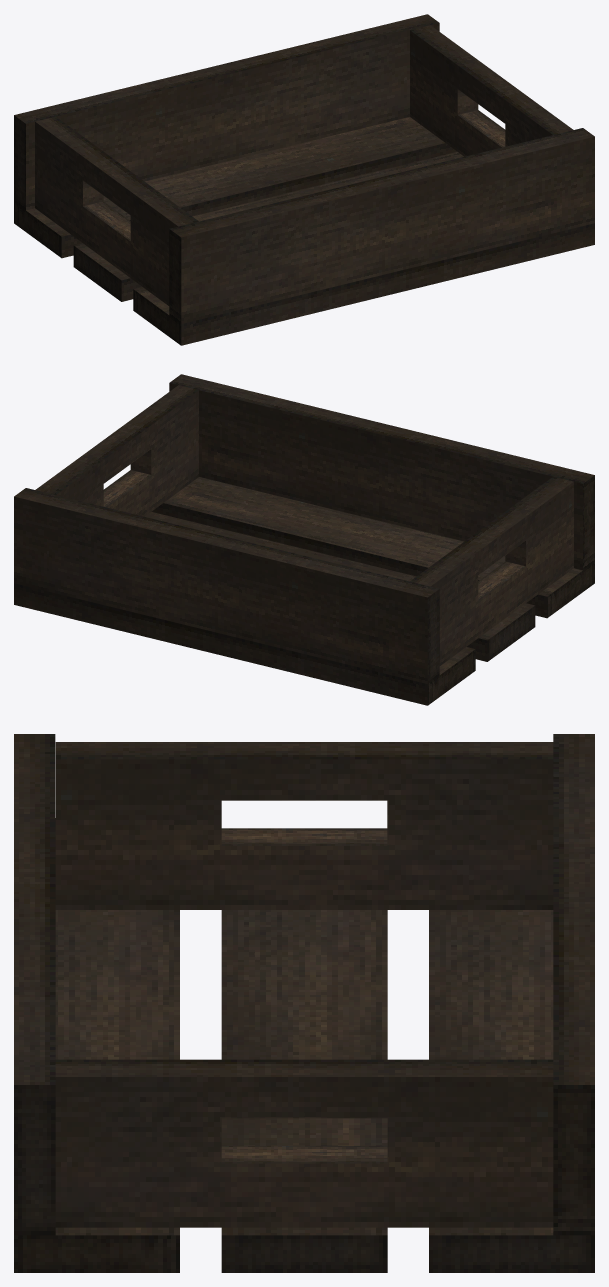
Rendered from wooden_crate_1_1.glb.
3 renders of one model, top to bottom at view 1: azimuth 30°, elevation 25°; view 2: azimuth 150°, elevation 25°; view 3: azimuth 270°, elevation 25°, orthographic. The views are drawn at different scales.
Parts seen in each view (by area): view 1: wooden_crate_1_1; view 2: wooden_crate_1_1; view 3: wooden_crate_1_1.
Boxes of the visible parts, box(x1,y1,x2,y2) form: wooden_crate_1_1: box(14, 14, 594, 345); wooden_crate_1_1: box(14, 374, 594, 705); wooden_crate_1_1: box(14, 734, 594, 1272).
Size of the model in its own units: 0.72 by 0.18 by 0.504.
1 material, 1 textured.
